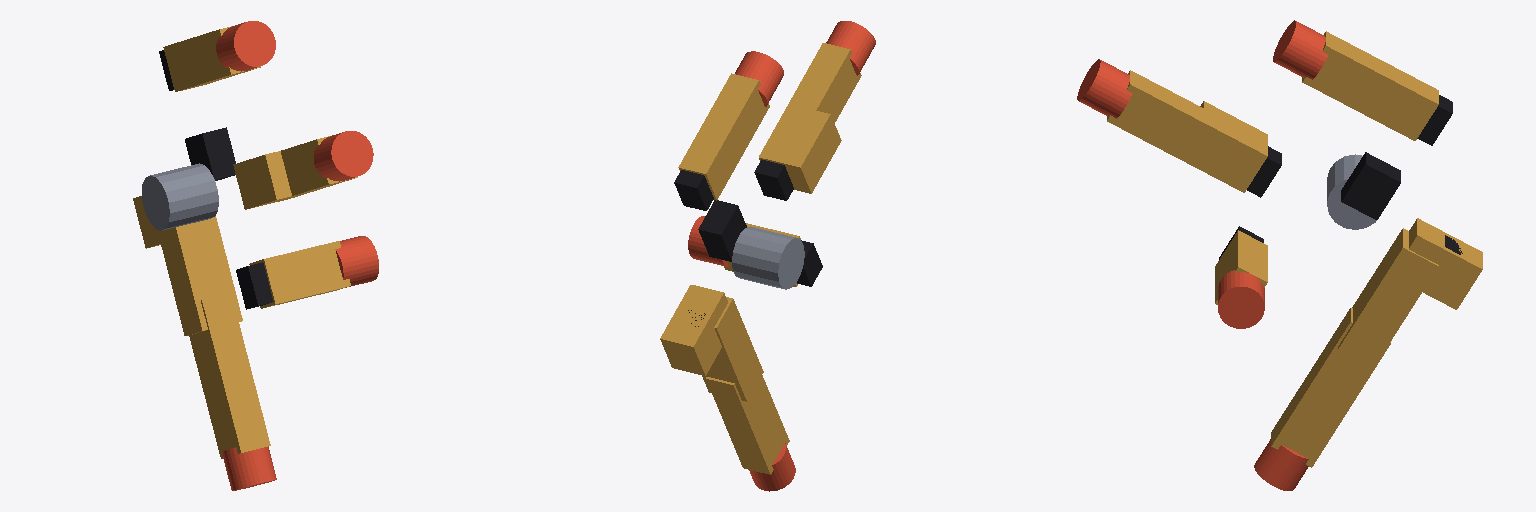
URDF robot description (g0025_c10):
<robot name="g0025_c10">
  <link name="palm">
    <visual name="palm_palm1">
      <origin xyz="0 0 0" rpy="0 0 0" />
      <geometry>
        <mesh filename="palm_palm1.obj" />
      </geometry>
      <material name="palm_palm1_mat">
        <color rgba="0.55 0.57 0.62 1" />
      </material>
    </visual>
    <collision>
      <origin xyz="0 0 0" rpy="0 0 0" />
      <geometry>
        <mesh filename="palm_palm1.obj" />
      </geometry>
    </collision>
    <visual name="palm_mount2">
      <origin xyz="0 0 0" rpy="0 0 0" />
      <geometry>
        <mesh filename="palm_mount2.obj" />
      </geometry>
      <material name="palm_mount2_mat">
        <color rgba="0.55 0.57 0.62 1" />
      </material>
    </visual>
    <collision>
      <origin xyz="0 0 0" rpy="0 0 0" />
      <geometry>
        <mesh filename="palm_mount2.obj" />
      </geometry>
    </collision>
    <visual name="palm_hinge3">
      <origin xyz="0 0.01125 0.0194855716" rpy="-1.57079633 0.523598776 1.57079633" />
      <geometry>
        <box size="0.029 0.034 0.02" />
      </geometry>
      <material name="palm_hinge3_mat">
        <color rgba="0.15 0.15 0.17 1" />
      </material>
    </visual>
    <collision>
      <origin xyz="0 0.01125 0.0194855716" rpy="-1.57079633 0.523598776 1.57079633" />
      <geometry>
        <box size="0.029 0.034 0.02" />
      </geometry>
    </collision>
    <visual name="palm_motor4">
      <origin xyz="-0.007 -0.08 -0.04" rpy="1.06057524e-16 -1.04719755 1.57079633" />
      <geometry>
        <box size="0.029 0.034 0.02" />
      </geometry>
      <material name="palm_motor4_mat">
        <color rgba="0.15 0.15 0.17 1" />
      </material>
    </visual>
    <collision>
      <origin xyz="-0.007 -0.08 -0.04" rpy="1.06057524e-16 -1.04719755 1.57079633" />
      <geometry>
        <box size="0.029 0.034 0.02" />
      </geometry>
    </collision>
    <visual name="palm_motor5">
      <origin xyz="0 -0.0735048095 0.03625" rpy="-1.57079633 -1.04719755 1.57079633" />
      <geometry>
        <box size="0.029 0.034 0.02" />
      </geometry>
      <material name="palm_motor5_mat">
        <color rgba="0.15 0.15 0.17 1" />
      </material>
    </visual>
    <collision>
      <origin xyz="0 -0.0735048095 0.03625" rpy="-1.57079633 -1.04719755 1.57079633" />
      <geometry>
        <box size="0.029 0.034 0.02" />
      </geometry>
    </collision>
    <visual name="palm_motor6">
      <origin xyz="-0.0045 0.0666996732 -0.0467548095" rpy="1.57079633 -0.523598776 -1.57079633" />
      <geometry>
        <box size="0.029 0.034 0.02" />
      </geometry>
      <material name="palm_motor6_mat">
        <color rgba="0.15 0.15 0.17 1" />
      </material>
    </visual>
    <collision>
      <origin xyz="-0.0045 0.0666996732 -0.0467548095" rpy="1.57079633 -0.523598776 -1.57079633" />
      <geometry>
        <box size="0.029 0.034 0.02" />
      </geometry>
    </collision>
    <inertial>
      <origin xyz="1.27792833e-19 -0.0178667017 -0.0140607606" rpy="1.57079633 0.368201914 1.57079633" />
      <mass value="0.724956373" />
      <inertia ixx="0.000611832695" ixy="0" ixz="0" iyy="0.00200497534" iyz="0" izz="0.00254721223" />
    </inertial>
  </link>
  <link name="palm0">
    <visual name="palm0_palm1">
      <origin xyz="0 0 0" rpy="0 0 0" />
      <geometry>
        <mesh filename="palm0_palm1.obj" />
      </geometry>
      <material name="palm0_palm1_mat">
        <color rgba="0.55 0.57 0.62 1" />
      </material>
    </visual>
    <collision>
      <origin xyz="0 0 0" rpy="0 0 0" />
      <geometry>
        <mesh filename="palm0_palm1.obj" />
      </geometry>
    </collision>
    <visual name="palm0_motor2">
      <origin xyz="0 0.0314951905 0.0502692379" rpy="-1.57079633 -1.04719755 1.57079633" />
      <geometry>
        <box size="0.029 0.034 0.02" />
      </geometry>
      <material name="palm0_motor2_mat">
        <color rgba="0.15 0.15 0.17 1" />
      </material>
    </visual>
    <collision>
      <origin xyz="0 0.0314951905 0.0502692379" rpy="-1.57079633 -1.04719755 1.57079633" />
      <geometry>
        <box size="0.029 0.034 0.02" />
      </geometry>
    </collision>
    <inertial>
      <origin xyz="8.32605364e-19 0.0168568403 0.0280276751" rpy="1.57079633 0.505683857 1.57079633" />
      <mass value="0.296720736" />
      <inertia ixx="0.000124604348" ixy="0" ixz="0" iyy="0.000347352699" iyz="0" izz="0.000443471856" />
    </inertial>
  </link>
  <link name="f0_link0">
    <visual name="f0_link0_link1">
      <origin xyz="0.01875 0 -6.9388939e-18" rpy="4.06369831e-17 2.80588734e-33 -2.0827301e-33" />
      <geometry>
        <box size="0.0615 0.033 0.024" />
      </geometry>
      <material name="f0_link0_link1_mat">
        <color rgba="0.80 0.62 0.30 1" />
      </material>
    </visual>
    <collision>
      <origin xyz="0.01875 0 -6.9388939e-18" rpy="4.06369831e-17 2.80588734e-33 -2.0827301e-33" />
      <geometry>
        <box size="0.0615 0.033 0.024" />
      </geometry>
    </collision>
    <inertial>
      <origin xyz="0.01875 0 0" rpy="0 0 0" />
      <mass value="0.085239" />
      <inertia ixx="1.18269113e-05" ixy="0" ixz="0" iyy="3.09577393e-05" iyz="0" izz="3.46017066e-05" />
    </inertial>
  </link>
  <link name="f0_link1">
    <visual name="f0_link1_link1">
      <origin xyz="0.019 6.9388939e-18 -6.9388939e-18" rpy="-1.57079633 -0 -1.57079633" />
      <geometry>
        <cylinder radius="0.0165" length="0.029" />
      </geometry>
      <material name="f0_link1_link1_mat">
        <color rgba="0.85 0.35 0.25 1" />
      </material>
    </visual>
    <collision>
      <origin xyz="0.019 6.9388939e-18 -6.9388939e-18" rpy="-1.57079633 -0 -1.57079633" />
      <geometry>
        <cylinder radius="0.0165" length="0.029" />
      </geometry>
    </collision>
    <inertial>
      <origin xyz="0.019 0 0" rpy="0 0 0" />
      <mass value="0.0763354" />
      <inertia ixx="9.49466441e-06" ixy="0" ixz="0" iyy="2.24143997e-05" iyz="0" izz="2.24143997e-05" />
    </inertial>
  </link>
  <link name="f1_link0">
    <visual name="f1_link0_link1">
      <origin xyz="0.014 -0.00625 -4.33680869e-18" rpy="0 7.03853194e-17 0" />
      <geometry>
        <box size="0.052 0.0365 0.033" />
      </geometry>
      <material name="f1_link0_link1_mat">
        <color rgba="0.80 0.62 0.30 1" />
      </material>
    </visual>
    <collision>
      <origin xyz="0.014 -0.00625 -4.33680869e-18" rpy="0 7.03853194e-17 0" />
      <geometry>
        <box size="0.052 0.0365 0.033" />
      </geometry>
    </collision>
    <inertial>
      <origin xyz="0.014 -0.00625 0" rpy="0 0 0" />
      <mass value="0.1096095" />
      <inertia ixx="2.21160002e-05" ixy="0" ixz="0" iyy="3.46457361e-05" iyz="0" izz="3.6867612e-05" />
    </inertial>
  </link>
  <link name="f1_link1">
    <visual name="f1_link1_link1">
      <origin xyz="0.02875 0 0" rpy="0 7.03853194e-17 0" />
      <geometry>
        <box size="0.0815 0.024 0.033" />
      </geometry>
      <material name="f1_link1_link1_mat">
        <color rgba="0.80 0.62 0.30 1" />
      </material>
    </visual>
    <collision>
      <origin xyz="0.02875 0 0" rpy="0 7.03853194e-17 0" />
      <geometry>
        <box size="0.0815 0.024 0.033" />
      </geometry>
    </collision>
    <inertial>
      <origin xyz="0.02875 0 0" rpy="0 0 0" />
      <mass value="0.112959" />
      <inertia ixx="1.56730613e-05" ixy="0" ixz="0" iyy="7.27761891e-05" iyz="0" izz="6.79471918e-05" />
    </inertial>
  </link>
  <link name="f1_link2">
    <visual name="f1_link2_link1">
      <origin xyz="0.019 0 3.03576608e-18" rpy="-1.57079633 -0 -1.57079633" />
      <geometry>
        <cylinder radius="0.0165" length="0.029" />
      </geometry>
      <material name="f1_link2_link1_mat">
        <color rgba="0.85 0.35 0.25 1" />
      </material>
    </visual>
    <collision>
      <origin xyz="0.019 0 3.03576608e-18" rpy="-1.57079633 -0 -1.57079633" />
      <geometry>
        <cylinder radius="0.0165" length="0.029" />
      </geometry>
    </collision>
    <inertial>
      <origin xyz="0.019 0 0" rpy="0 0 0" />
      <mass value="0.0763354" />
      <inertia ixx="9.49466441e-06" ixy="0" ixz="0" iyy="2.24143997e-05" iyz="0" izz="2.24143997e-05" />
    </inertial>
  </link>
  <link name="f2_link0">
    <visual name="f2_link0_link1">
      <origin xyz="-0.00625 0 -0.0165" rpy="0 4.06369831e-17 0" />
      <geometry>
        <box size="0.0365 0.029 0.053" />
      </geometry>
      <material name="f2_link0_link1_mat">
        <color rgba="0.80 0.62 0.30 1" />
      </material>
    </visual>
    <collision>
      <origin xyz="-0.00625 0 -0.0165" rpy="0 4.06369831e-17 0" />
      <geometry>
        <box size="0.0365 0.029 0.053" />
      </geometry>
    </collision>
    <inertial>
      <origin xyz="-0.00625 0 -0.0165" rpy="0 0 0" />
      <mass value="0.098175875" />
      <inertia ixx="2.98618286e-05" ixy="0" ixz="0" iyy="3.38809035e-05" iyz="0" izz="1.778006e-05" />
    </inertial>
  </link>
  <link name="f2_link1">
    <visual name="f2_link1_link1">
      <origin xyz="0.03375 0 6.9388939e-18" rpy="0 4.06369831e-17 0" />
      <geometry>
        <box size="0.0915 0.033 0.029" />
      </geometry>
      <material name="f2_link1_link1_mat">
        <color rgba="0.80 0.62 0.30 1" />
      </material>
    </visual>
    <collision>
      <origin xyz="0.03375 0 6.9388939e-18" rpy="0 4.06369831e-17 0" />
      <geometry>
        <box size="0.0915 0.033 0.029" />
      </geometry>
    </collision>
    <inertial>
      <origin xyz="0.03375 0 0" rpy="0 0 0" />
      <mass value="0.153239625" />
      <inertia ixx="2.46460397e-05" ixy="0" ixz="0" iyy="0.000117652915" iyz="0" izz="0.000120819867" />
    </inertial>
  </link>
  <link name="f2_link2">
    <visual name="f2_link2_link1">
      <origin xyz="0.04375 0 -6.9388939e-18" rpy="0 4.06369831e-17 0" />
      <geometry>
        <box size="0.1115 0.024 0.033" />
      </geometry>
      <material name="f2_link2_link1_mat">
        <color rgba="0.80 0.62 0.30 1" />
      </material>
    </visual>
    <collision>
      <origin xyz="0.04375 0 -6.9388939e-18" rpy="0 4.06369831e-17 0" />
      <geometry>
        <box size="0.1115 0.024 0.033" />
      </geometry>
    </collision>
    <inertial>
      <origin xyz="0.04375 0 0" rpy="0 0 0" />
      <mass value="0.154539" />
      <inertia ixx="2.14422863e-05" ixy="0" ixz="0" iyy="0.000174130038" iyz="0" izz="0.000167523496" />
    </inertial>
  </link>
  <link name="f2_link3">
    <visual name="f2_link3_link1">
      <origin xyz="0.019 0 -1.73472348e-17" rpy="-1.57079633 -0 -1.57079633" />
      <geometry>
        <cylinder radius="0.0165" length="0.029" />
      </geometry>
      <material name="f2_link3_link1_mat">
        <color rgba="0.85 0.35 0.25 1" />
      </material>
    </visual>
    <collision>
      <origin xyz="0.019 0 -1.73472348e-17" rpy="-1.57079633 -0 -1.57079633" />
      <geometry>
        <cylinder radius="0.0165" length="0.029" />
      </geometry>
    </collision>
    <inertial>
      <origin xyz="0.019 0 0" rpy="0 0 0" />
      <mass value="0.0763354" />
      <inertia ixx="9.49466441e-06" ixy="0" ixz="0" iyy="2.24143997e-05" iyz="0" izz="2.24143997e-05" />
    </inertial>
  </link>
  <link name="f3_link0">
    <visual name="f3_link0_link1">
      <origin xyz="0.03375 0 0" rpy="0 7.03853194e-17 0" />
      <geometry>
        <box size="0.0915 0.024 0.033" />
      </geometry>
      <material name="f3_link0_link1_mat">
        <color rgba="0.80 0.62 0.30 1" />
      </material>
    </visual>
    <collision>
      <origin xyz="0.03375 0 0" rpy="0 7.03853194e-17 0" />
      <geometry>
        <box size="0.0915 0.024 0.033" />
      </geometry>
    </collision>
    <inertial>
      <origin xyz="0.03375 0 0" rpy="0 0 0" />
      <mass value="0.126819" />
      <inertia ixx="1.75961363e-05" ixy="0" ixz="0" iyy="9.99888553e-05" iyz="0" izz="9.45673431e-05" />
    </inertial>
  </link>
  <link name="f3_link1">
    <visual name="f3_link1_link1">
      <origin xyz="0.019 0 -6.9388939e-18" rpy="-1.57079633 -0 -1.57079633" />
      <geometry>
        <cylinder radius="0.0165" length="0.029" />
      </geometry>
      <material name="f3_link1_link1_mat">
        <color rgba="0.85 0.35 0.25 1" />
      </material>
    </visual>
    <collision>
      <origin xyz="0.019 0 -6.9388939e-18" rpy="-1.57079633 -0 -1.57079633" />
      <geometry>
        <cylinder radius="0.0165" length="0.029" />
      </geometry>
    </collision>
    <inertial>
      <origin xyz="0.019 0 0" rpy="0 0 0" />
      <mass value="0.0763354" />
      <inertia ixx="9.49466441e-06" ixy="0" ixz="0" iyy="2.24143997e-05" iyz="0" izz="2.24143997e-05" />
    </inertial>
  </link>
  <joint name="palm0_joint" type="revolute">
    <parent link="palm" />
    <child link="palm0" />
    <origin xyz="0 0.015 0.0259807621" rpy="0 0 0" />
    <axis xyz="0 0.866025404 -0.5" />
    <limit effort="0.5" lower="-0.523598776" upper="0.523598776" velocity="5" />
    <dynamics damping="0.0775033" friction="0" />
  </joint>
  <joint name="f0_j0" type="revolute">
    <parent link="palm" />
    <child link="f0_link0" />
    <origin xyz="0.0005 -0.08 -0.04" rpy="1.04719755 5.30287619e-17 -3.061617e-17" />
    <axis xyz="0 1 6.123234e-17" />
    <limit effort="0.5" lower="-0.523598776" upper="0.523598776" velocity="5" />
    <dynamics damping="0.0775033" friction="0" />
  </joint>
  <joint name="f0_j1" type="revolute">
    <parent link="f0_link0" />
    <child link="f0_link1" />
    <origin xyz="0.04 0 0" rpy="0 0 0" />
    <axis xyz="0 1 6.123234e-17" />
    <limit effort="0.5" lower="-0.523598776" upper="0.523598776" velocity="5" />
    <dynamics damping="0.0775033" friction="0" />
  </joint>
  <joint name="f1_j0" type="revolute">
    <parent link="palm" />
    <child link="f1_link0" />
    <origin xyz="0 -0.08 0.04" rpy="-0 -0.523598776 -1.57079633" />
    <axis xyz="0 0 1" />
    <limit effort="0.5" lower="-0.523598776" upper="1.57079633" velocity="5" />
    <dynamics damping="0.0775033" friction="0" />
  </joint>
  <joint name="f1_j1" type="revolute">
    <parent link="f1_link0" />
    <child link="f1_link1" />
    <origin xyz="0.03 0 0" rpy="0 0 0" />
    <axis xyz="0 0 1" />
    <limit effort="0.5" lower="-0.523598776" upper="1.57079633" velocity="5" />
    <dynamics damping="0.0775033" friction="0" />
  </joint>
  <joint name="f1_j2" type="revolute">
    <parent link="f1_link1" />
    <child link="f1_link2" />
    <origin xyz="0.06 0 0" rpy="0 0 0" />
    <axis xyz="0 0 1" />
    <limit effort="0.5" lower="-0.523598776" upper="1.57079633" velocity="5" />
    <dynamics damping="0.0775033" friction="0" />
  </joint>
  <joint name="f2_j0" type="revolute">
    <parent link="palm" />
    <child link="f2_link0" />
    <origin xyz="-0.0045 0.04 -0.04" rpy="0 1.04719755 -1.57079633" />
    <axis xyz="0 0 1" />
    <limit effort="0.5" lower="-0.523598776" upper="1.57079633" velocity="5" />
    <dynamics damping="0.0775033" friction="0" />
  </joint>
  <joint name="f2_j1" type="revolute">
    <parent link="f2_link0" />
    <child link="f2_link1" />
    <origin xyz="0 0 0" rpy="0 0 0" />
    <axis xyz="0 1 6.123234e-17" />
    <limit effort="0.5" lower="-0.523598776" upper="0.523598776" velocity="5" />
    <dynamics damping="0.0775033" friction="0" />
  </joint>
  <joint name="f2_j2" type="revolute">
    <parent link="f2_link1" />
    <child link="f2_link2" />
    <origin xyz="0.07 0 0" rpy="0 0 0" />
    <axis xyz="0 0 1" />
    <limit effort="0.5" lower="-0.523598776" upper="1.57079633" velocity="5" />
    <dynamics damping="0.0775033" friction="0" />
  </joint>
  <joint name="f2_j3" type="revolute">
    <parent link="f2_link2" />
    <child link="f2_link3" />
    <origin xyz="0.09 0 0" rpy="0 0 0" />
    <axis xyz="0 0 1" />
    <limit effort="0.5" lower="-0.523598776" upper="1.57079633" velocity="5" />
    <dynamics damping="0.0775033" friction="0" />
  </joint>
  <joint name="f3_j0" type="revolute">
    <parent link="palm0" />
    <child link="f3_link0" />
    <origin xyz="0 0.025 0.0540192379" rpy="-0 -0.523598776 -1.57079633" />
    <axis xyz="0 0 1" />
    <limit effort="0.5" lower="-0.523598776" upper="1.57079633" velocity="5" />
    <dynamics damping="0.0775033" friction="0" />
  </joint>
  <joint name="f3_j1" type="revolute">
    <parent link="f3_link0" />
    <child link="f3_link1" />
    <origin xyz="0.07 0 0" rpy="0 0 0" />
    <axis xyz="0 0 1" />
    <limit effort="0.5" lower="-0.523598776" upper="1.57079633" velocity="5" />
    <dynamics damping="0.0775033" friction="0" />
  </joint>
</robot>

--- Facts derived from the render (not from the file) ---
The picture shows the robot from 3 angles, left to right: view 1: azimuth 30°, elevation 25°; view 2: azimuth 150°, elevation 25°; view 3: azimuth 270°, elevation 25°; orthographic projection.
Model g0025_c10 with 13 links and 12 joints (12 revolute), rooted at palm, posed every joint at zero.
Visible links, largest first — view 1: f2_link2, palm, f2_link1, f0_link0, f3_link0, f1_link0, f1_link2, f3_link1, f2_link3, f1_link1, f0_link1, f2_link0; view 2: palm, f3_link0, f2_link2, f2_link0, f1_link0, f1_link1, f2_link1, f3_link1, f1_link2, palm0, f2_link3, f0_link1; view 3: f3_link0, f2_link2, f2_link1, palm, f1_link1, f1_link0, f2_link0, f0_link1, f3_link1, f1_link2, f0_link0, f2_link3 (+1 smaller).
Boxes of the visible links, bbox=[...] form: f2_link2: bbox=[189, 293, 270, 458]; palm: bbox=[142, 127, 273, 309]; f2_link1: bbox=[157, 216, 242, 335]; f0_link0: bbox=[249, 241, 350, 308]; f3_link0: bbox=[163, 26, 260, 91]; f1_link0: bbox=[233, 151, 316, 209]; f1_link2: bbox=[314, 131, 373, 181]; f3_link1: bbox=[216, 21, 275, 71]; f2_link3: bbox=[222, 447, 276, 490]; f1_link1: bbox=[281, 136, 357, 195]; f0_link1: bbox=[335, 236, 378, 287]; f2_link0: bbox=[133, 196, 160, 248]; palm: bbox=[688, 159, 822, 326]; f3_link0: bbox=[678, 73, 769, 200]; f2_link2: bbox=[706, 375, 789, 474]; f2_link0: bbox=[660, 285, 727, 375]; f1_link0: bbox=[759, 106, 841, 193]; f1_link1: bbox=[776, 43, 861, 130]; f2_link1: bbox=[702, 297, 763, 401]; f3_link1: bbox=[735, 51, 783, 106]; f1_link2: bbox=[826, 21, 875, 75]; palm0: bbox=[674, 170, 713, 210]; f2_link3: bbox=[749, 443, 795, 491]; f0_link1: bbox=[688, 216, 728, 266]; f3_link0: bbox=[1302, 31, 1438, 140]; f2_link2: bbox=[1271, 308, 1390, 467]; f2_link1: bbox=[1338, 228, 1438, 368]; palm: bbox=[1219, 146, 1462, 259]; f1_link1: bbox=[1107, 70, 1230, 172]; f1_link0: bbox=[1180, 101, 1267, 192]; f2_link0: bbox=[1409, 218, 1482, 309]; f0_link1: bbox=[1218, 270, 1264, 328]; f3_link1: bbox=[1273, 20, 1327, 79]; f1_link2: bbox=[1077, 59, 1132, 118]; f0_link0: bbox=[1215, 230, 1267, 304]; f2_link3: bbox=[1254, 439, 1308, 490].
Size in the robot's own frame: 0.126 by 0.2847 by 0.3619 metres.
1 mesh visuals loaded from 3 distinct referenced files (1 OBJ); not drawn: 2 (reference not matched to a file when rendering).
